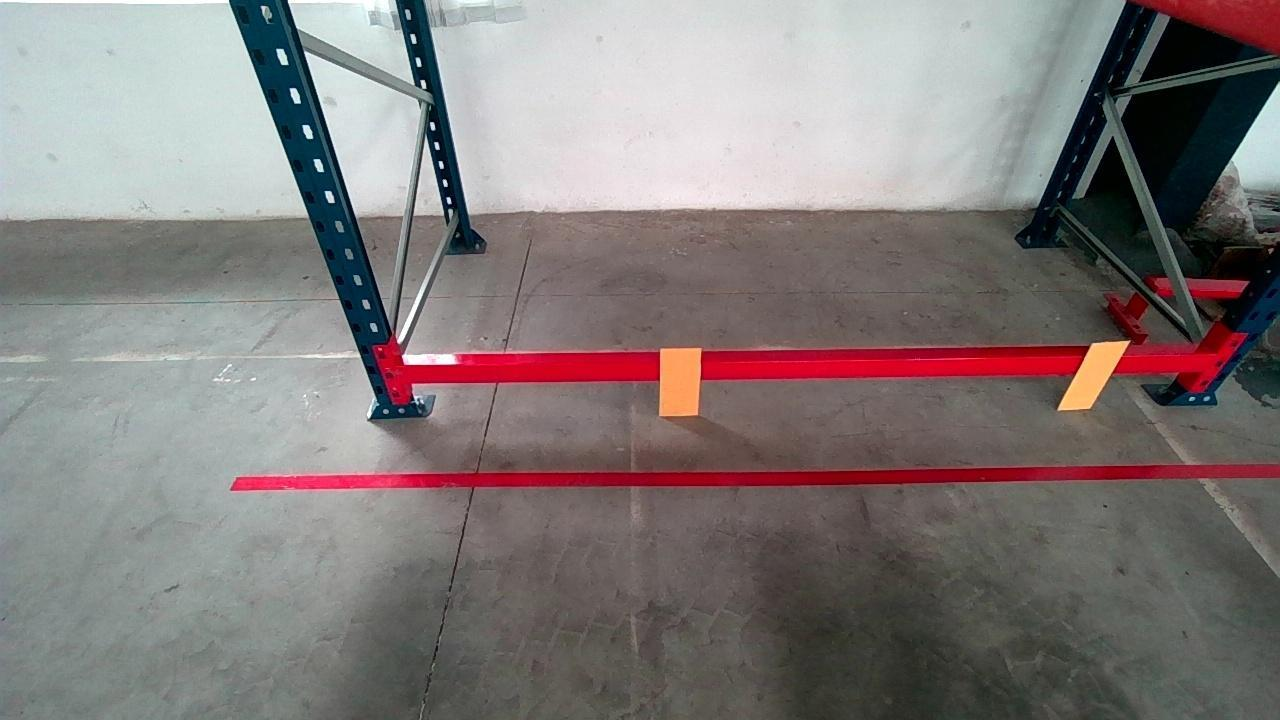h_rack: (407, 341, 1207, 385)
orange_strip: (1058, 340, 1131, 409), (659, 347, 701, 415)
red_line: (230, 458, 1275, 489)
